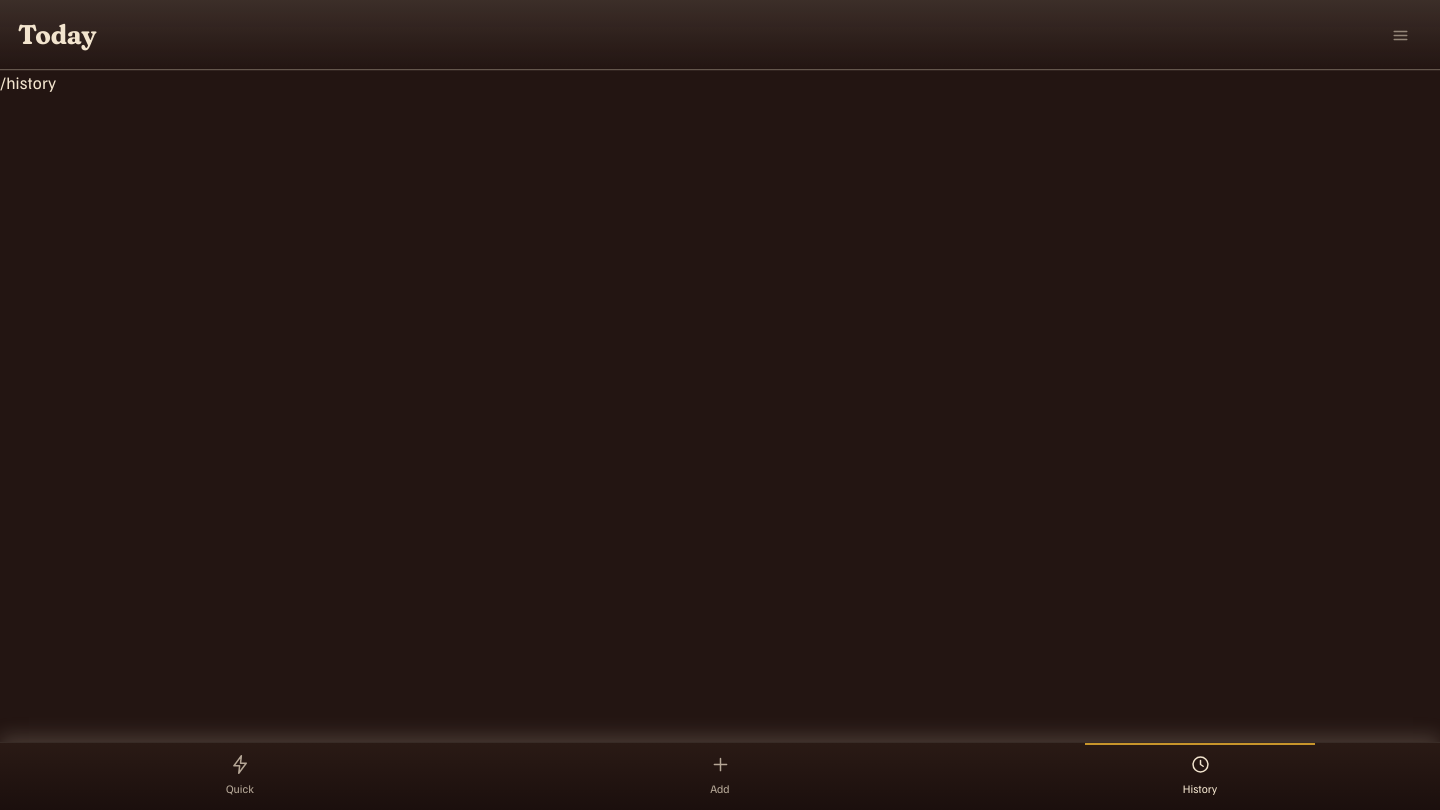
Scenario: AppFrame › navigates to the recommendations screen from the menu
Click the button named "Open menu": (1400, 35) [1378,13,1422,57]
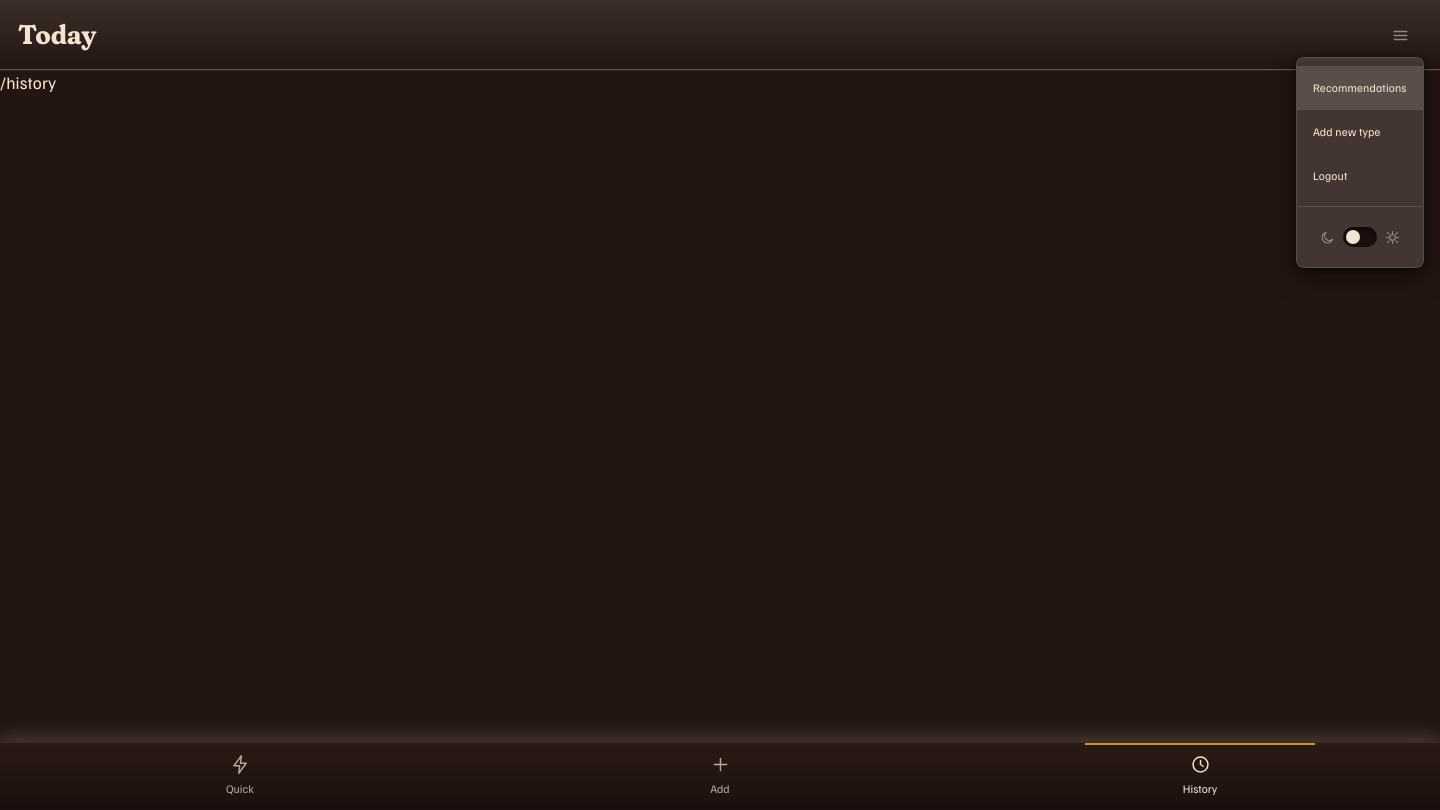
Click the menu item "Recommendations": (1360, 88) [1297,66,1423,110]
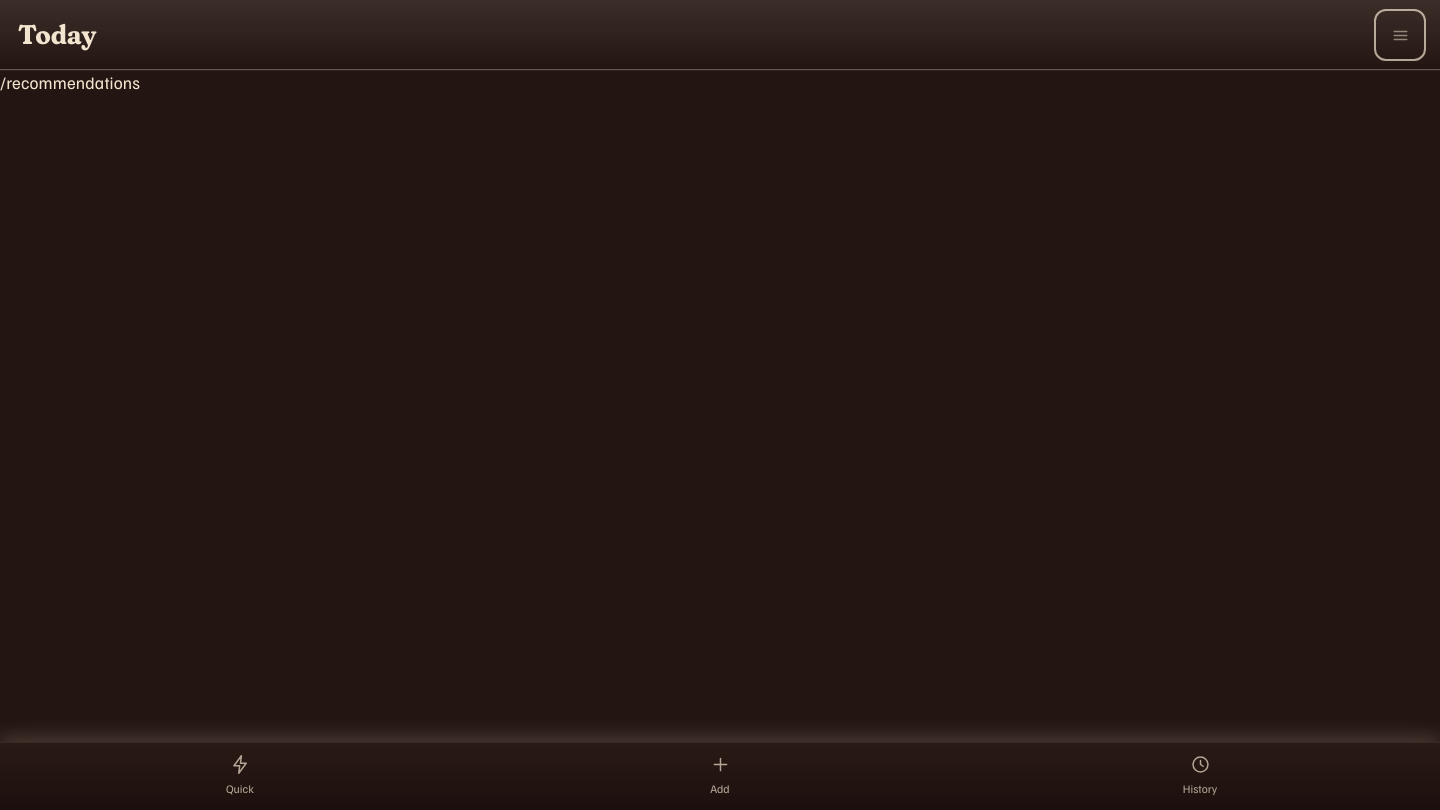
Expected: the text with test id "pathname" reads "/recommendations", [0,71,140,93]
Expected: the menu is gone
